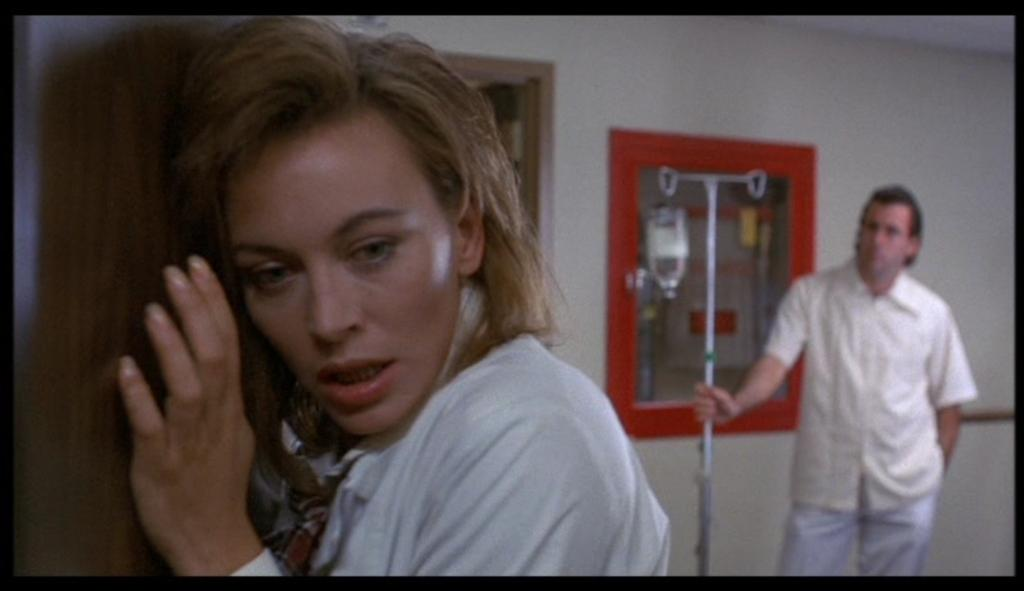face: (226, 120, 468, 430), (856, 198, 908, 278)
